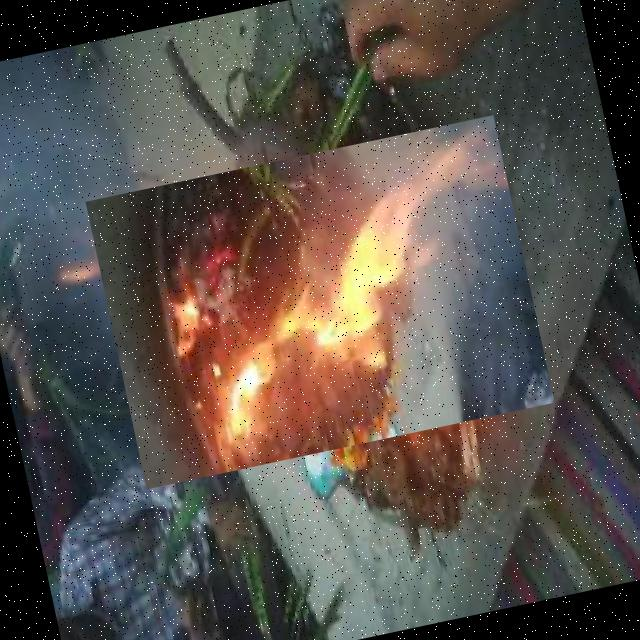fire: (85, 114, 554, 488)
